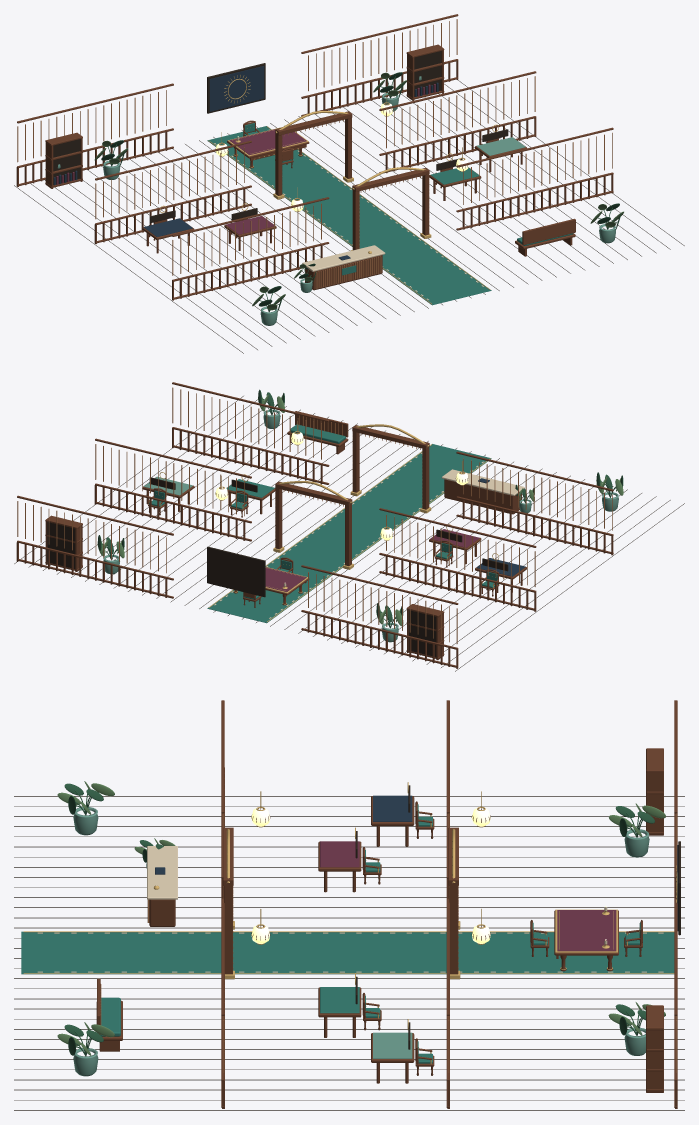
Rendered from shop.glb.
3 renders of one model, top to bottom at view 1: azimuth 30°, elevation 25°; view 2: azimuth 150°, elevation 25°; view 3: azimuth 270°, elevation 25°, orthographic. The views are drawn at different scales.
Visible parts, largest first — view 1: Shop_furnishings_Oiled_teak, Shop_furnishings_Jade_woven_silk, Shop_furnishings_Dark_walnut, Shop_furnishings_End_grain, Shop_furnishings_Ink_blue, Shop_furnishings_Brushed_brass, Shop_furnishings_Mulberry_velvet, Shop_furnishings_Glazed_celadon, Shop_furnishings_Warm_linen, Shop_furnishings_Deep_leaf, Shop_furnishings_Young_leaf; view 2: Shop_furnishings_Oiled_teak, Shop_furnishings_Jade_woven_silk, Shop_furnishings_Dark_walnut, Shop_furnishings_End_grain, Shop_furnishings_Brushed_brass, Shop_furnishings_Glazed_celadon, Shop_furnishings_Warm_linen, Shop_furnishings_Mulberry_velvet, Shop_furnishings_Deep_leaf, Shop_furnishings_Young_leaf, Shop_furnishings_Warm_lantern_diffuser; view 3: Shop_furnishings_Jade_woven_silk, Shop_furnishings_Dark_walnut, Shop_furnishings_Oiled_teak, Shop_furnishings_Mulberry_velvet, Shop_furnishings_Brushed_brass, Shop_furnishings_Glazed_celadon, Shop_furnishings_Warm_linen, Shop_furnishings_Deep_leaf, Shop_furnishings_Young_leaf, Shop_furnishings_Ink_blue, Shop_furnishings_Warm_lantern_diffuser, Shop_furnishings_End_grain.
Boxes of the visible parts, bbox=[...] form: Shop_furnishings_Oiled_teak: bbox=[16, 14, 613, 300]; Shop_furnishings_Jade_woven_silk: bbox=[207, 123, 573, 305]; Shop_furnishings_Dark_walnut: bbox=[14, 51, 684, 353]; Shop_furnishings_End_grain: bbox=[17, 19, 612, 288]; Shop_furnishings_Ink_blue: bbox=[53, 66, 438, 260]; Shop_furnishings_Brushed_brass: bbox=[159, 75, 498, 304]; Shop_furnishings_Mulberry_velvet: bbox=[56, 84, 435, 234]; Shop_furnishings_Glazed_celadon: bbox=[57, 76, 615, 325]; Shop_furnishings_Warm_linen: bbox=[214, 125, 483, 300]; Shop_furnishings_Deep_leaf: bbox=[101, 72, 621, 312]; Shop_furnishings_Young_leaf: bbox=[94, 72, 623, 310]; Shop_furnishings_Oiled_teak: bbox=[16, 382, 613, 668]; Shop_furnishings_Jade_woven_silk: bbox=[149, 424, 497, 623]; Shop_furnishings_Dark_walnut: bbox=[14, 396, 684, 671]; Shop_furnishings_End_grain: bbox=[17, 387, 612, 643]; Shop_furnishings_Brushed_brass: bbox=[149, 421, 498, 621]; Shop_furnishings_Glazed_celadon: bbox=[103, 409, 618, 642]; Shop_furnishings_Warm_linen: bbox=[214, 453, 524, 618]; Shop_furnishings_Mulberry_velvet: bbox=[265, 529, 479, 591]; Shop_furnishings_Deep_leaf: bbox=[98, 389, 623, 628]; Shop_furnishings_Young_leaf: bbox=[97, 394, 623, 626]; Shop_furnishings_Warm_lantern_diffuser: bbox=[215, 432, 468, 583]; Shop_furnishings_Jade_woven_silk: bbox=[21, 804, 674, 1063]; Shop_furnishings_Dark_walnut: bbox=[14, 785, 684, 1110]; Shop_furnishings_Oiled_teak: bbox=[96, 700, 677, 1108]; Shop_furnishings_Mulberry_velvet: bbox=[320, 841, 616, 951]; Shop_furnishings_Brushed_brass: bbox=[23, 782, 677, 1064]; Shop_furnishings_Glazed_celadon: bbox=[73, 807, 649, 1076]; Shop_furnishings_Warm_linen: bbox=[37, 846, 663, 972]; Shop_furnishings_Deep_leaf: bbox=[64, 783, 654, 1056]; Shop_furnishings_Young_leaf: bbox=[57, 781, 665, 1055]; Shop_furnishings_Ink_blue: bbox=[155, 795, 678, 930]; Shop_furnishings_Warm_lantern_diffuser: bbox=[251, 808, 606, 943]; Shop_furnishings_End_grain: bbox=[100, 813, 676, 1072].
Size of what is drawn, in the model's own units: 31.02 by 5.26 by 28.
